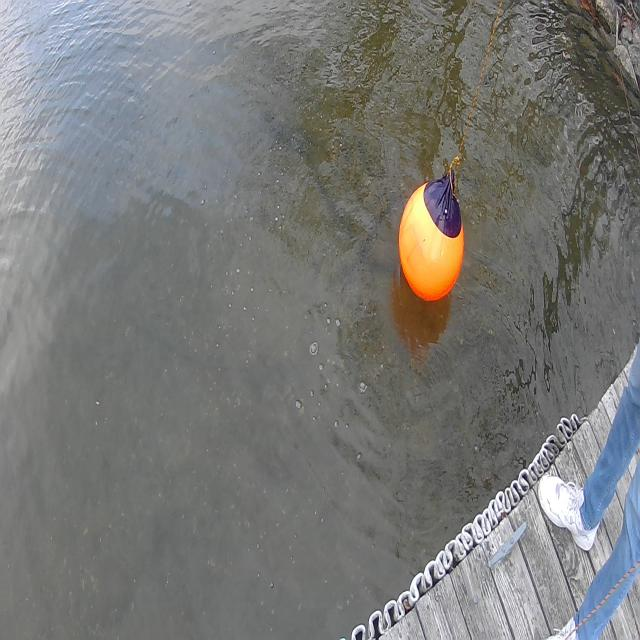Buoy: (396, 148, 470, 314)
